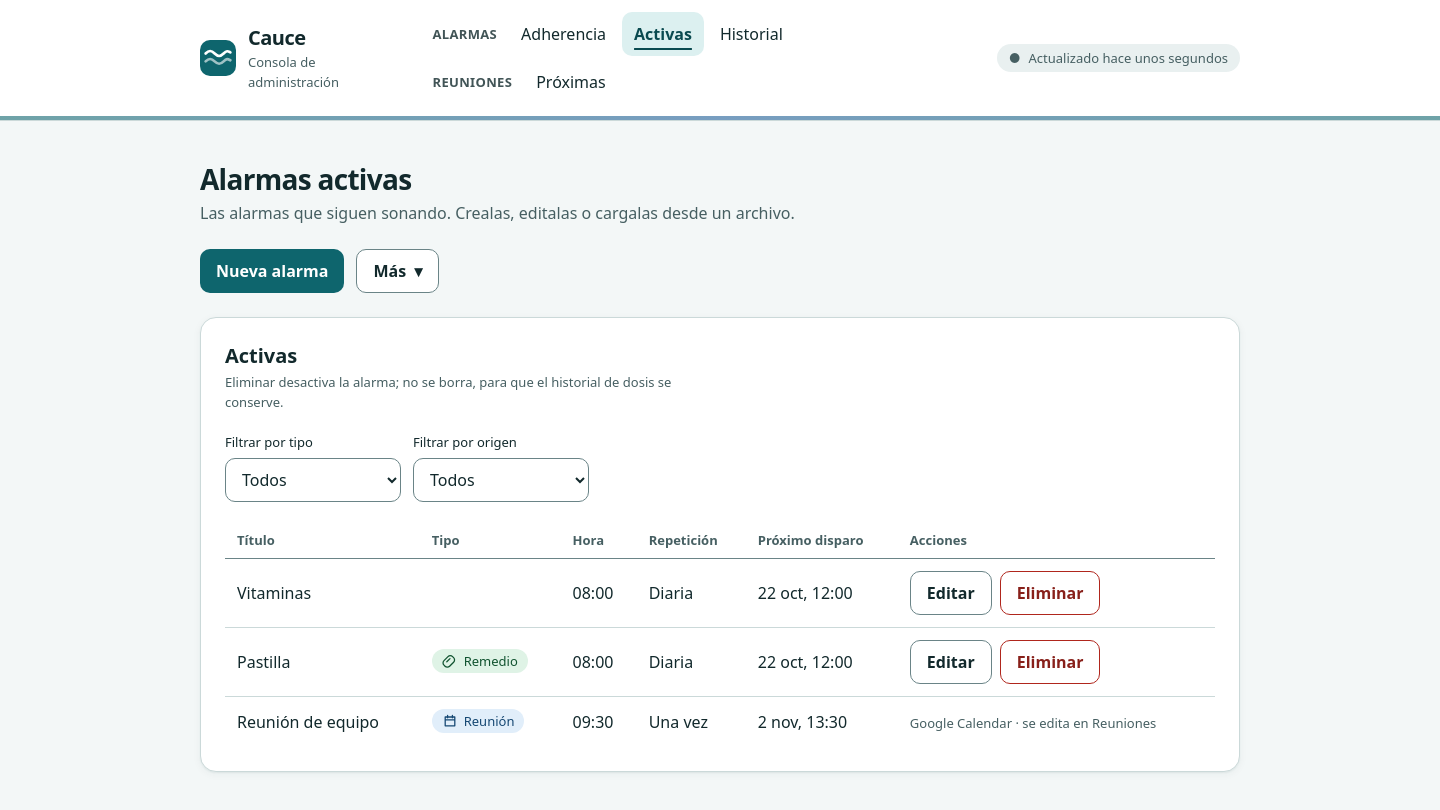
Test: ActivasView (P1) › «otro» no muestra chip de tipo y los filtros acotan la tabla
Check: the number of rows is 4, box 225,522 -> 1215,558; 225,559 -> 1215,628; 225,628 -> 1215,696; 225,696 -> 1215,747
Check: the text "Remedio" is shown, box 432,649 -> 528,673
Select "Google" in the dropdown labelled "Filtrar por origen" at (501, 480), box 413,458 -> 589,502
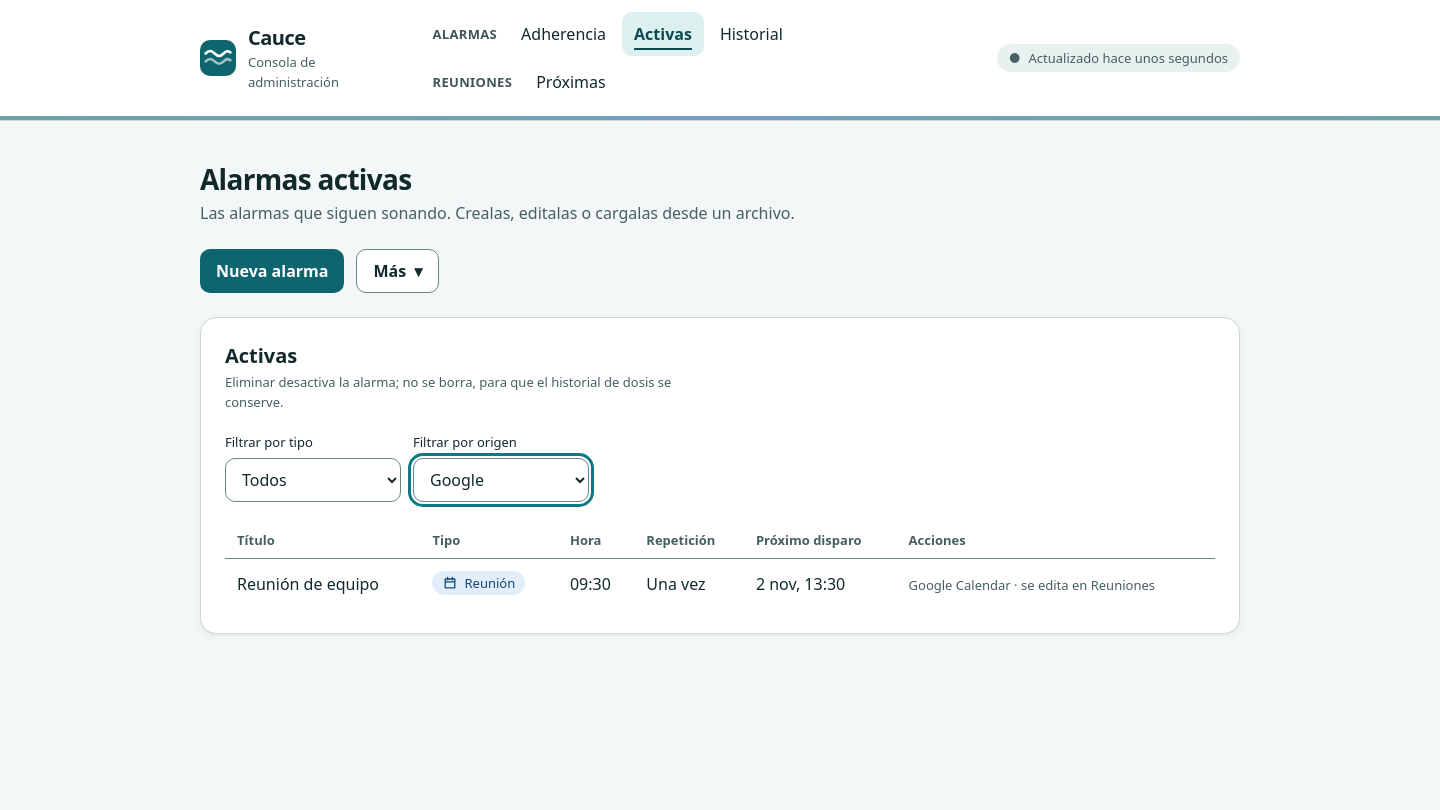
Check: the number of rows is 2, box 225,522 -> 1215,558; 225,559 -> 1215,609
Select "Todos" in the dropdown labelled "Filtrar por origen" at (501, 480), box 413,458 -> 589,502
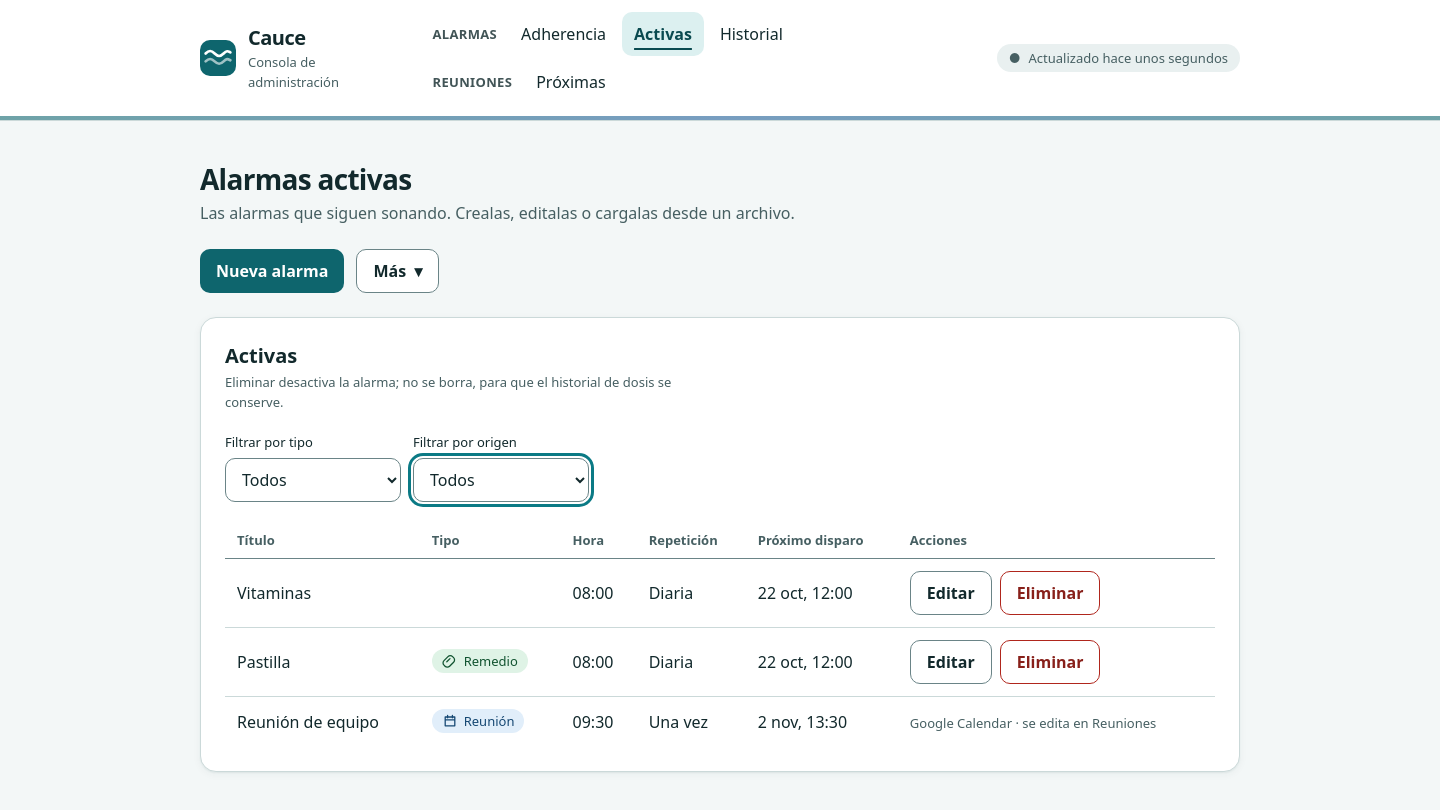
Select "Remedio" in the dropdown labelled "Filtrar por tipo" at (313, 480), box 225,458 -> 401,502
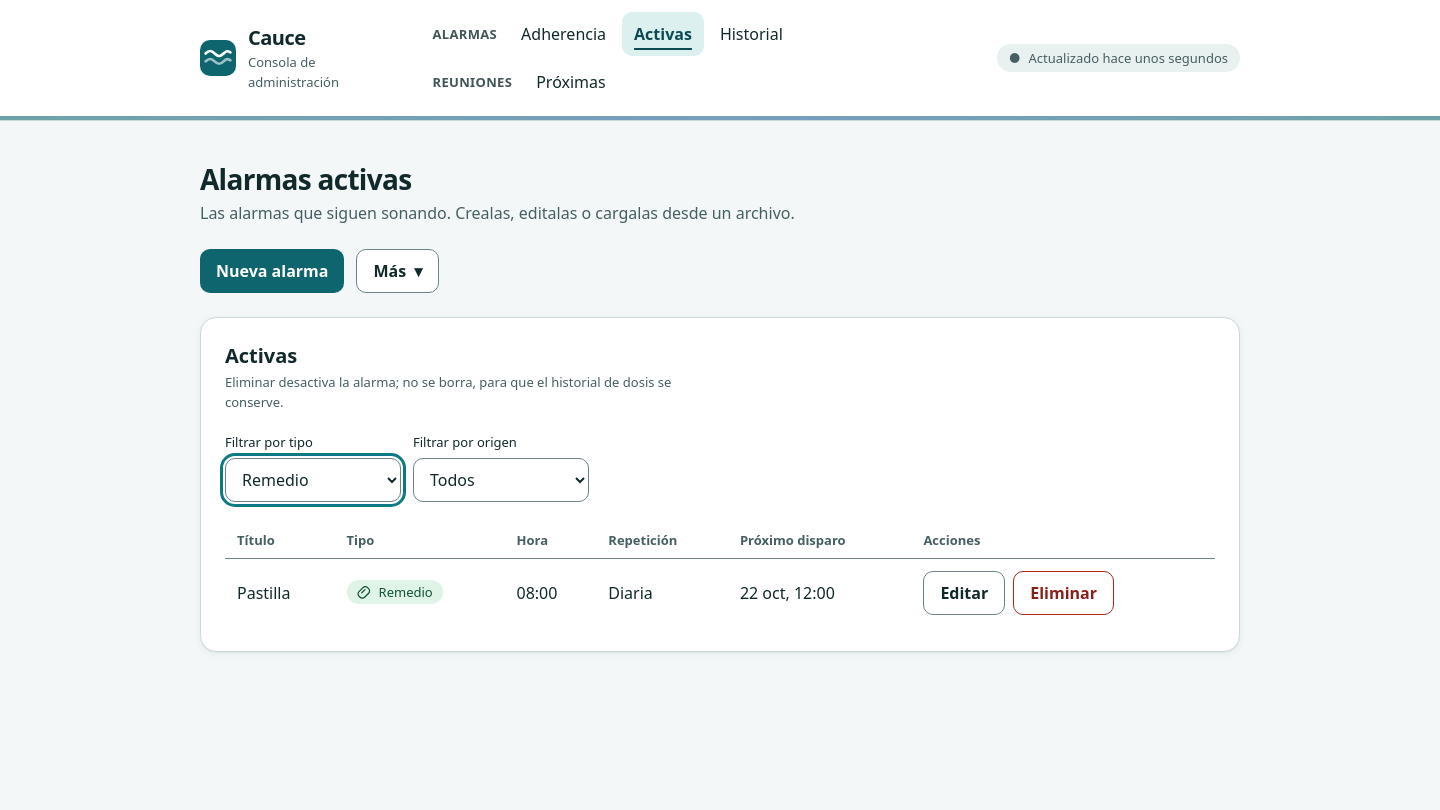
Check: the number of rows is 2, box 225,522 -> 1215,558; 225,559 -> 1215,627
